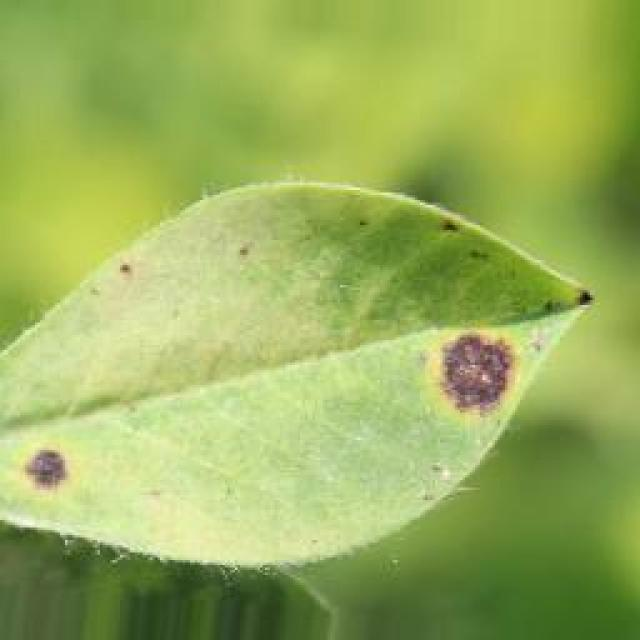Yellowish: (304, 173, 634, 481), (0, 296, 167, 552), (58, 168, 285, 316)
